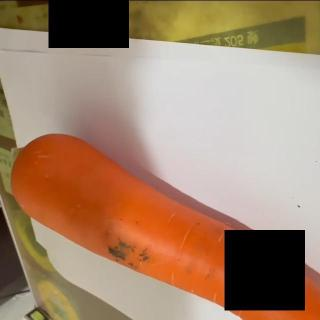carrot: (9, 132, 320, 320)
